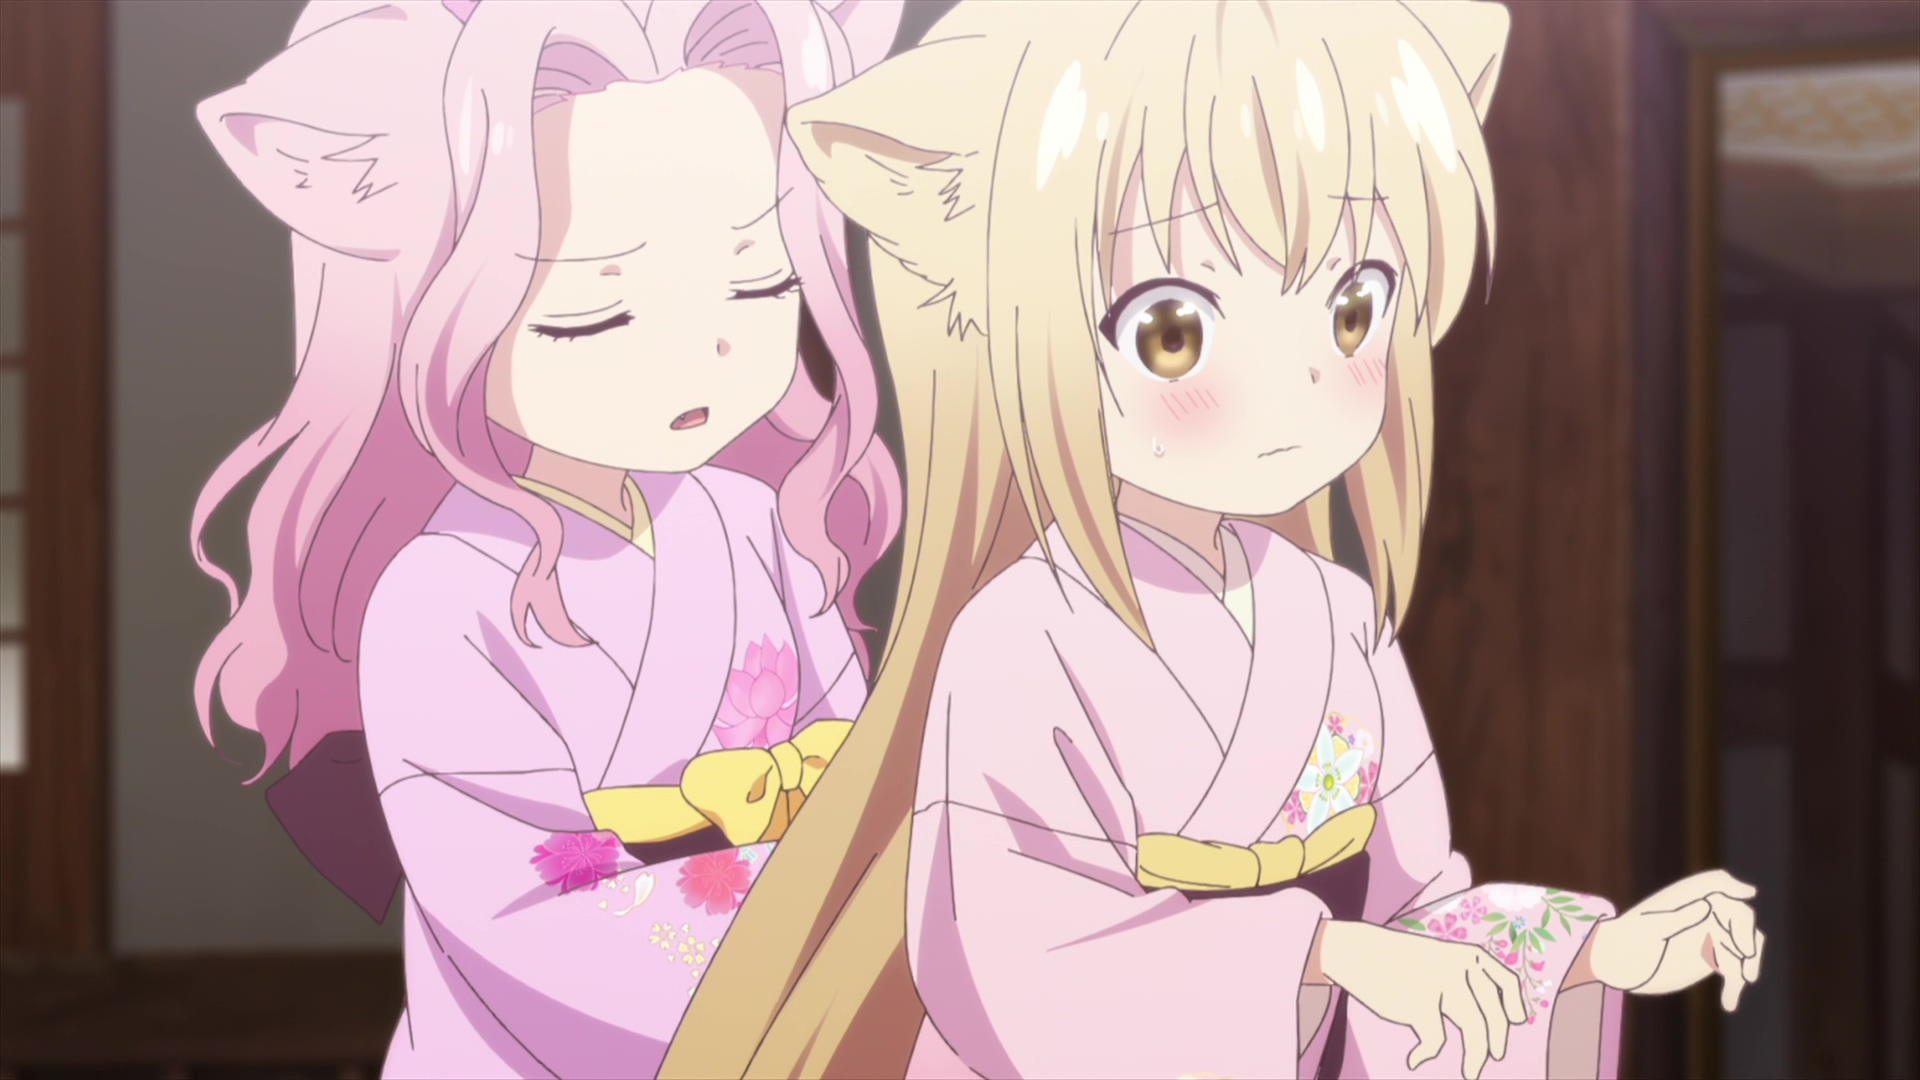柚: (658, 1, 1766, 1080)
莲: (191, 1, 901, 1080)
